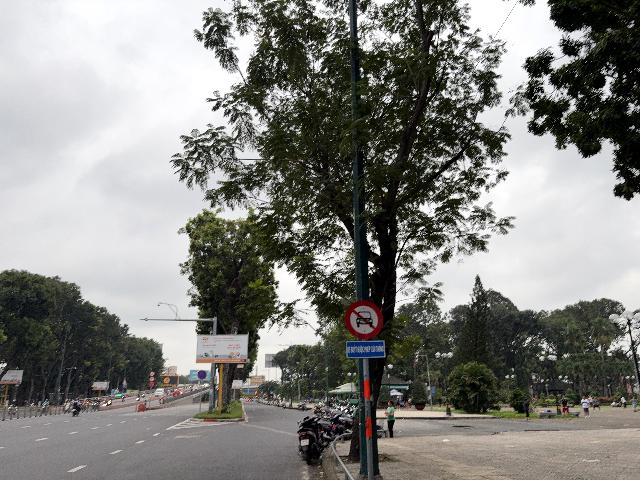cam-o-to: (345, 300, 383, 339)
